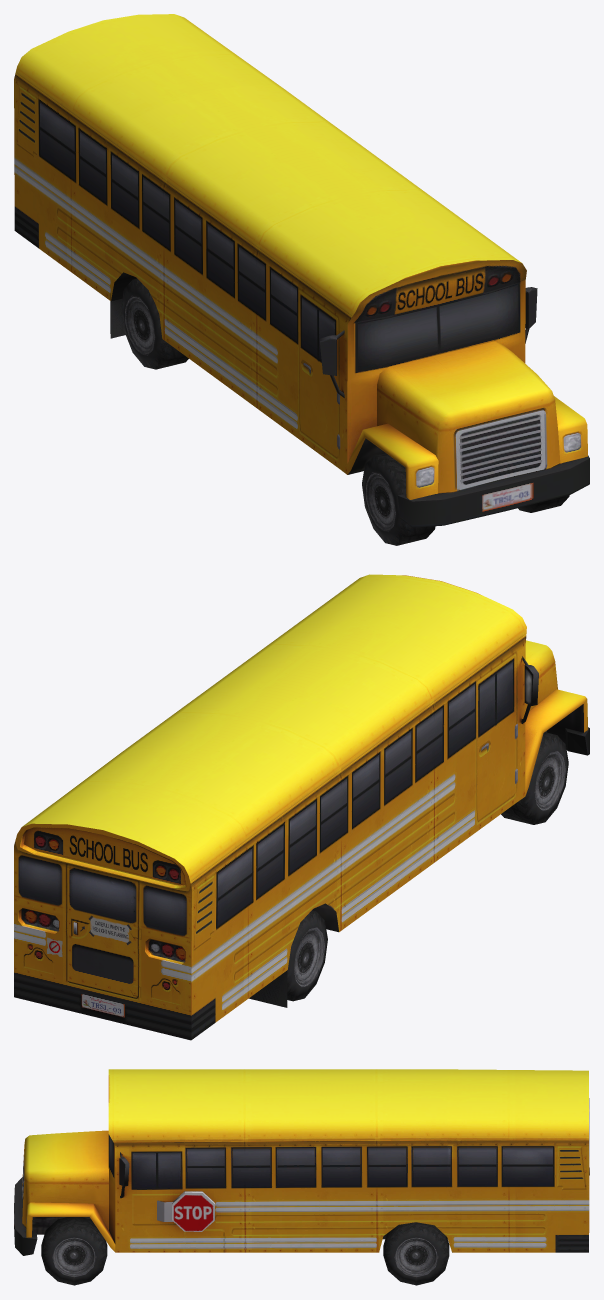
3 renders of one model, top to bottom at view 1: azimuth 30°, elevation 25°; view 2: azimuth 150°, elevation 25°; view 3: azimuth 270°, elevation 25°, orthographic. The views are drawn at different scales.
Parts seen in each view (by area): view 1: Schoolbus_Prefab, SchoolbusHood, SchoolbusDebris07, SchoolbusDebris06, SchoolbusGlass2, SchoolbusDebris05, SchoolbusGlass, SchoolbusDebris04, SchoolbusFrontBumper, SchoolbusDebris13, SchoolbusWheel_RF, SchoolbusDebris08 (+4 smaller); view 2: Schoolbus_Prefab, SchoolbusDebris04, SchoolbusGlass2, SchoolbusDebris07, SchoolbusDebris06, SchoolbusDebris05, SchoolbusRearBumper, SchoolbusDebris13, SchoolbusDebris08, SchoolbusWheel_RF, SchoolbusDebris11, SchoolbusWheel_RB (+3 smaller); view 3: Schoolbus_Prefab, SchoolbusGlass2, SchoolbusDebris07, SchoolbusDebris06, SchoolbusDebris05, SchoolbusHood, SchoolbusDebris04, SchoolbusWheel_LF, SchoolbusWheel_LB, SchoolbusDebris12, SchoolbusDebris09, SchoolbusDebris10 (+5 smaller).
Part boxes in pixels (x1,y1,x2,y2): Schoolbus_Prefab: (39,191,587,499); SchoolbusHood: (377,341,560,493); SchoolbusDebris07: (204,151,467,286); SchoolbusDebris06: (114,85,373,217); SchoolbusGlass2: (38,97,297,345); SchoolbusDebris05: (38,31,283,151); SchoolbusGlass: (301,282,520,373); SchoolbusDebris04: (14,14,207,221); SchoolbusFrontBumper: (397,455,589,527); SchoolbusDebris13: (204,219,297,380); SchoolbusWheel_RF: (362,453,435,545); SchoolbusDebris08: (39,150,135,261); Schoolbus_Prefab: (215,574,587,1022); SchoolbusDebris04: (14,805,216,1013); SchoolbusGlass2: (18,681,475,936); SchoolbusDebris07: (212,614,475,749); SchoolbusDebris06: (122,683,381,815); SchoolbusDebris05: (46,749,291,870); SchoolbusRearBumper: (14,970,215,1040); SchoolbusDebris13: (381,740,475,843); SchoolbusDebris08: (216,816,312,964); SchoolbusWheel_RF: (501,732,568,824); SchoolbusDebris11: (291,809,381,893); SchoolbusWheel_RB: (287,910,327,1001); Schoolbus_Prefab: (26,1069,554,1252); SchoolbusGlass2: (184,1098,589,1186); SchoolbusDebris07: (184,1069,319,1144); SchoolbusDebris06: (319,1069,447,1144); SchoolbusDebris05: (447,1069,554,1186); SchoolbusHood: (22,1130,108,1229); SchoolbusDebris04: (554,1070,589,1233); SchoolbusWheel_LF: (41,1217,107,1285); SchoolbusWheel_LB: (383,1222,449,1285); SchoolbusDebris12: (184,1145,319,1211); SchoolbusDebris09: (416,1186,554,1211); SchoolbusDebris10: (319,1186,446,1211).
Bounding box in the file's own units: 0.0386 × 0.0406 × 0.1245.
1 material, 1 textured.
